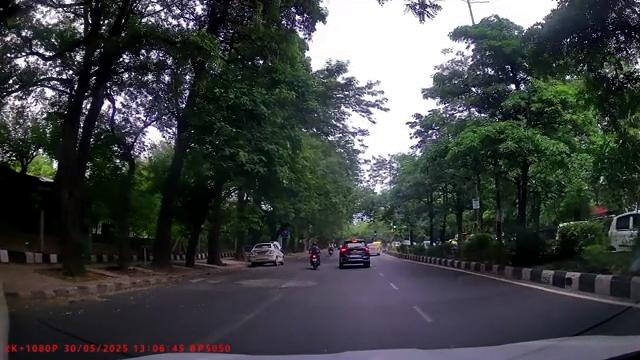motorcycle_with_helmet: (308, 241, 322, 270)
